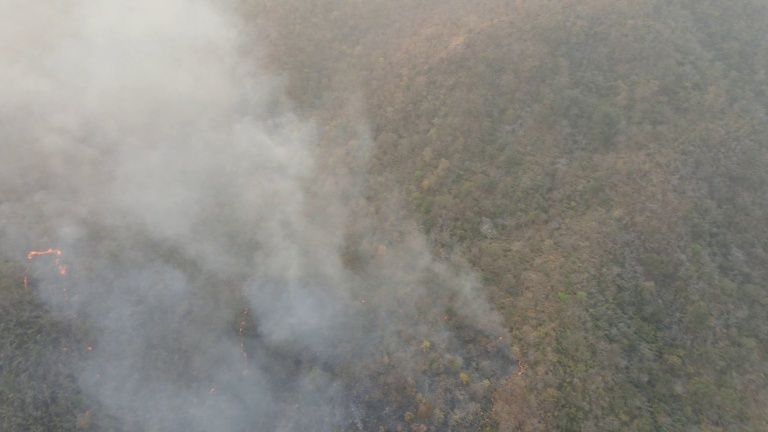fire: (220, 268, 265, 397), (492, 326, 530, 430), (20, 241, 72, 302), (83, 342, 95, 357)
smoke: (1, 1, 521, 430)
